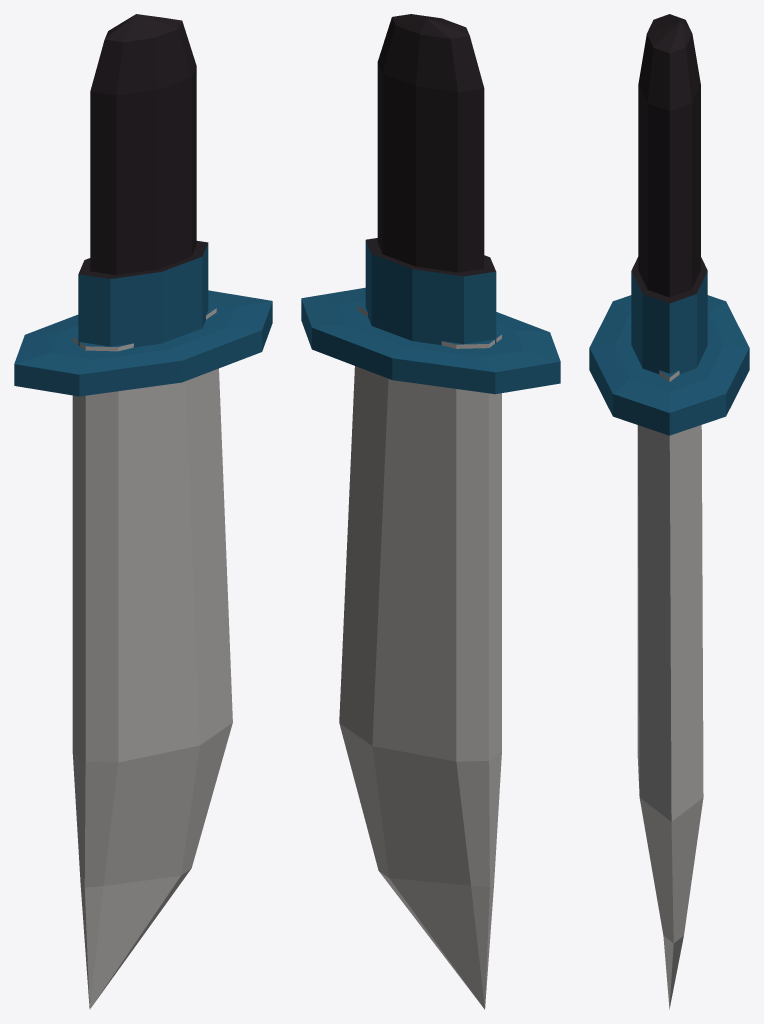
The model's file is Knife.fbx.
The picture shows the model from 3 angles, left to right: view 1: azimuth 30°, elevation 25°; view 2: azimuth 150°, elevation 25°; view 3: azimuth 270°, elevation 25°; orthographic projection. The views are drawn at different scales.
Parts seen in each view (by area): view 1: Knife; view 2: Knife; view 3: Knife.
Boxes of the visible parts, box(x1,y1,x2,y2) form: Knife: box(14, 14, 272, 1009); Knife: box(301, 14, 560, 1009); Knife: box(589, 14, 749, 1009).
Size of the model in its own units: 17.34 by 62.72 by 8.95.
